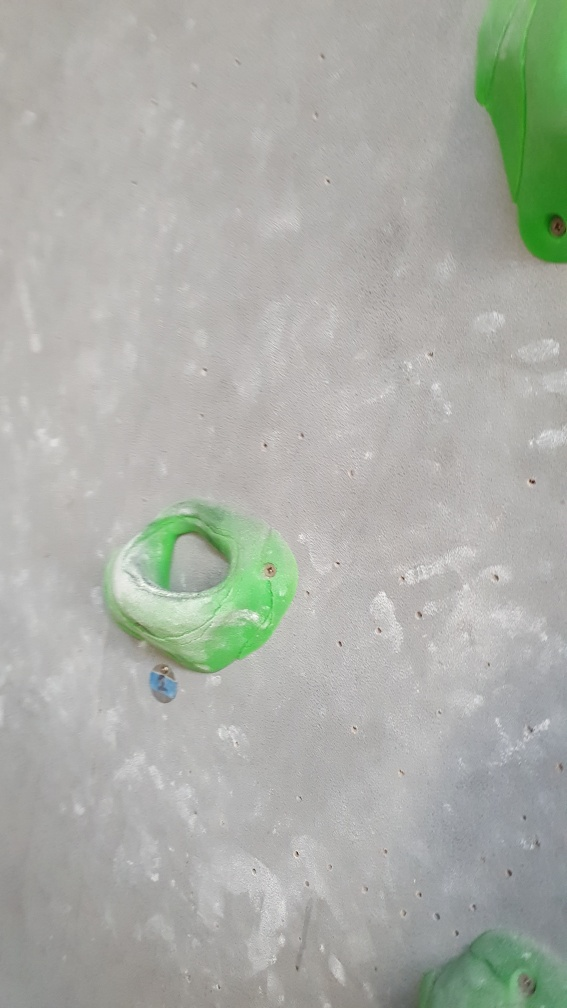Hand Start: (142, 660, 180, 706)
Pocket: (99, 492, 298, 677)
